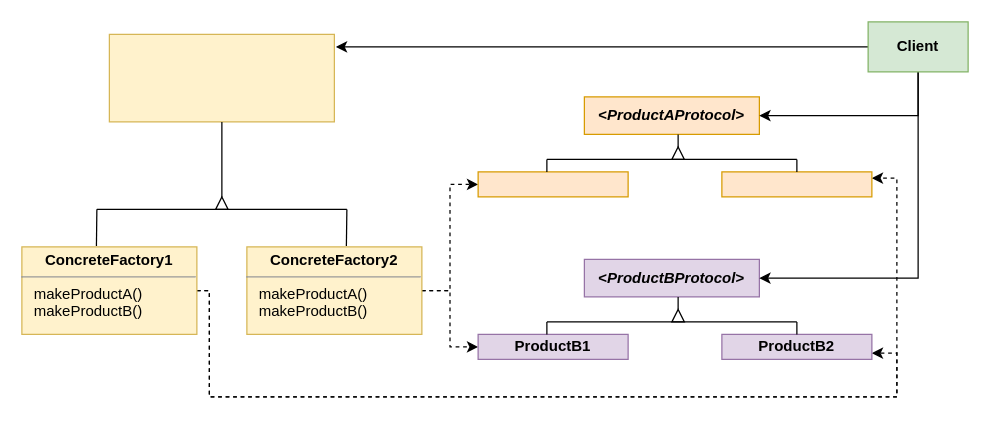
Some shapes in this 990 by 429 pixel diagram are drawn without their labels. The centre of each missing label's shape, as x and y in pixels:
<AbstractFactoryProtocol> makeProductA() makeProductB(): the point at 221,77
ProductA1: the point at 552,184
ProductA2: the point at 796,184
